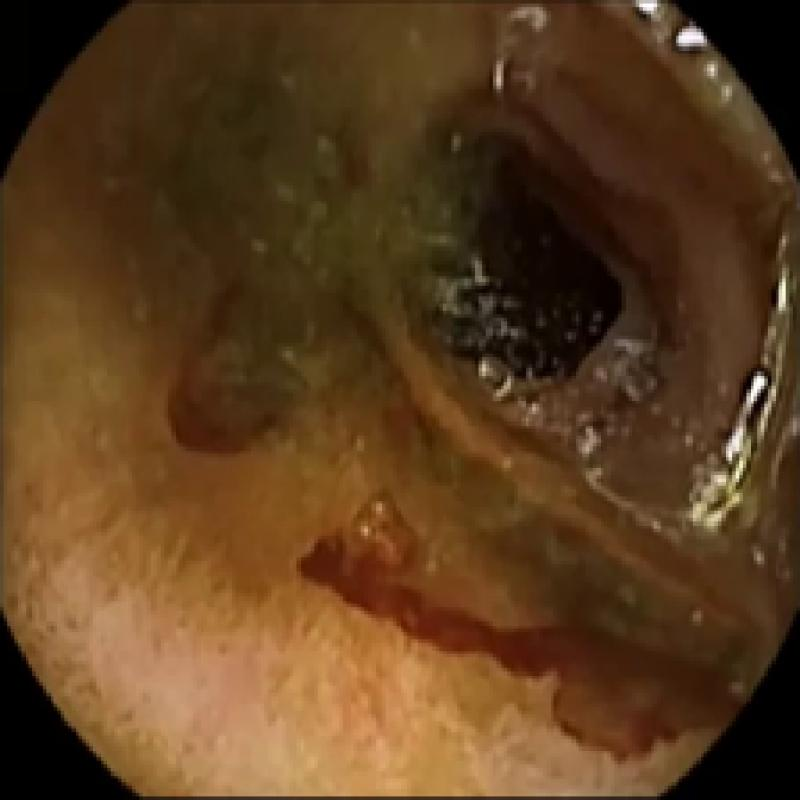bleeding: (308, 534, 737, 756), (157, 275, 264, 464)
